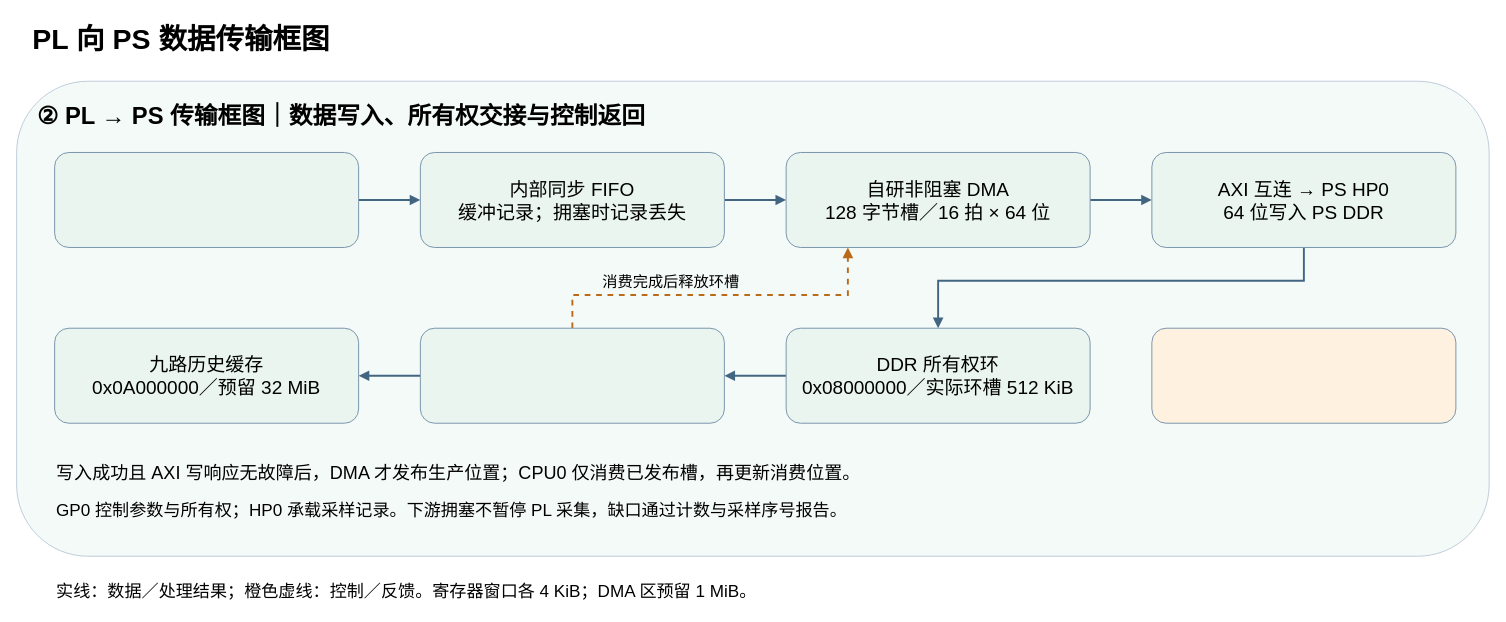
Image size: 1506x622. Some labels were removed from this diagram. The shapes that lost their labels are listed below. From the top down, each one's centre as x and y in pixels, then its label:
the point at 206,199: 采样打包 九路 PCM＋DAS/FIR＋采样身份
the point at 571,375: CPU0 读取与校验 缓存失效、屏障、序号与 CRC
the point at 1303,375: PS GP0 → AXI4-Lite 主控 0x43C00000 DMA 0x43C10000
